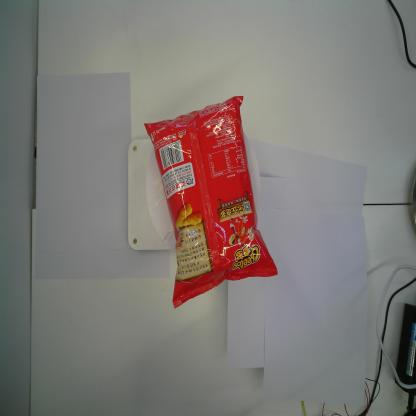Puffed Food: (142, 94, 279, 310)
